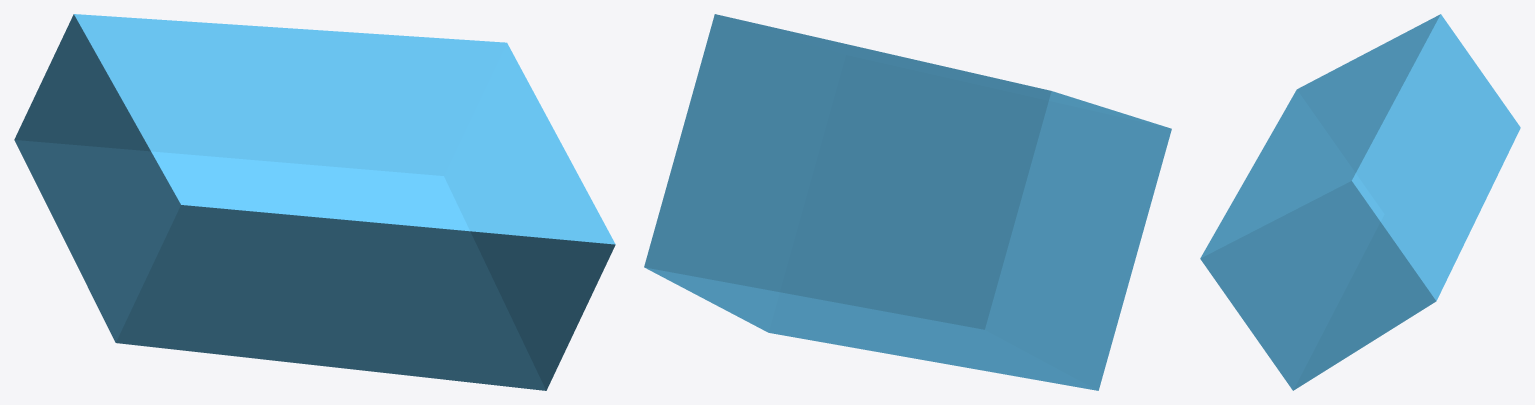
Rendered from Event_421278790_HErechit_33.fbx.
3 views of the same model, side by side, from view 1: azimuth 30°, elevation 25°; view 2: azimuth 150°, elevation 25°; view 3: azimuth 270°, elevation 25° (orthographic). The views are drawn at different scales.
Visible parts, largest first — view 1: Model; view 2: Model; view 3: Model.
Boxes of the visible parts, <box> form: Model: <box>14,14,615,390</box>; Model: <box>644,14,1171,390</box>; Model: <box>1200,14,1520,390</box>.
Bounding box in the file's own units: 0.6687 × 0.6704 × 0.7546.
